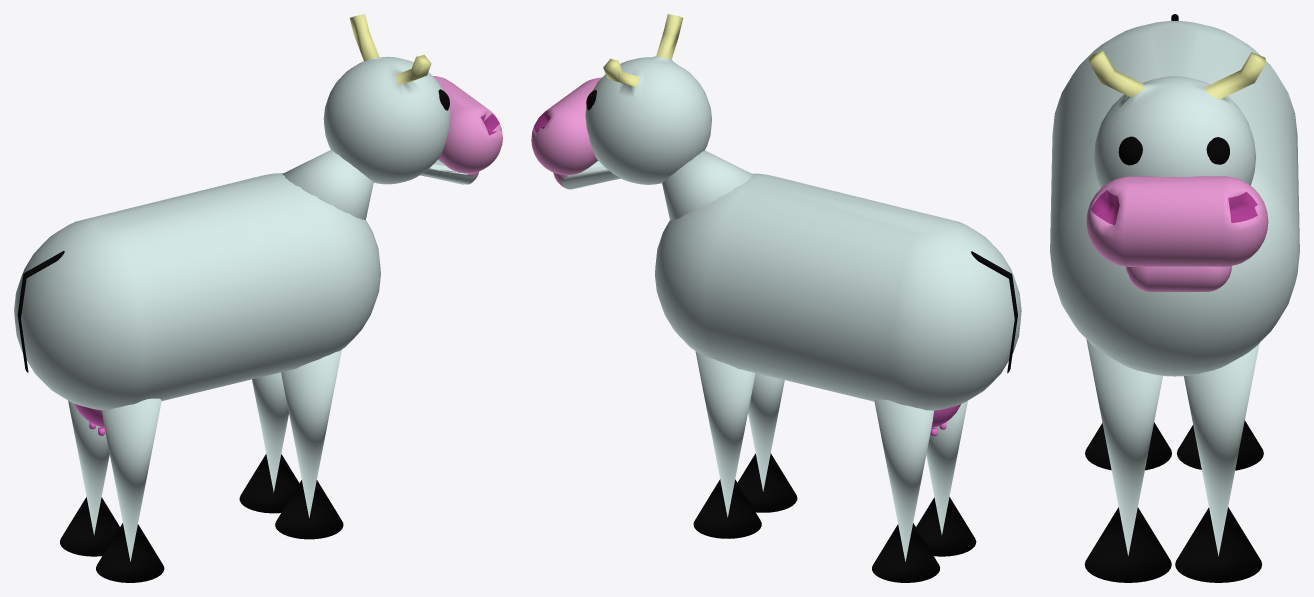
The model's file is Cow.glb.
3 views of the same model, side by side, from view 1: azimuth 30°, elevation 25°; view 2: azimuth 150°, elevation 25°; view 3: azimuth 270°, elevation 25° (orthographic). The views are drawn at different scales.
Parts seen in each view (by area): view 1: Sphere; view 2: Sphere; view 3: Sphere.
Boxes of the visible parts, x1=… form: Sphere: x1=14, y1=14, x2=502, y2=582; Sphere: x1=531, y1=14, x2=1021, y2=582; Sphere: x1=1050, y1=14, x2=1299, y2=582.
Size of the model in its own units: 5.43 by 5.07 by 2.
